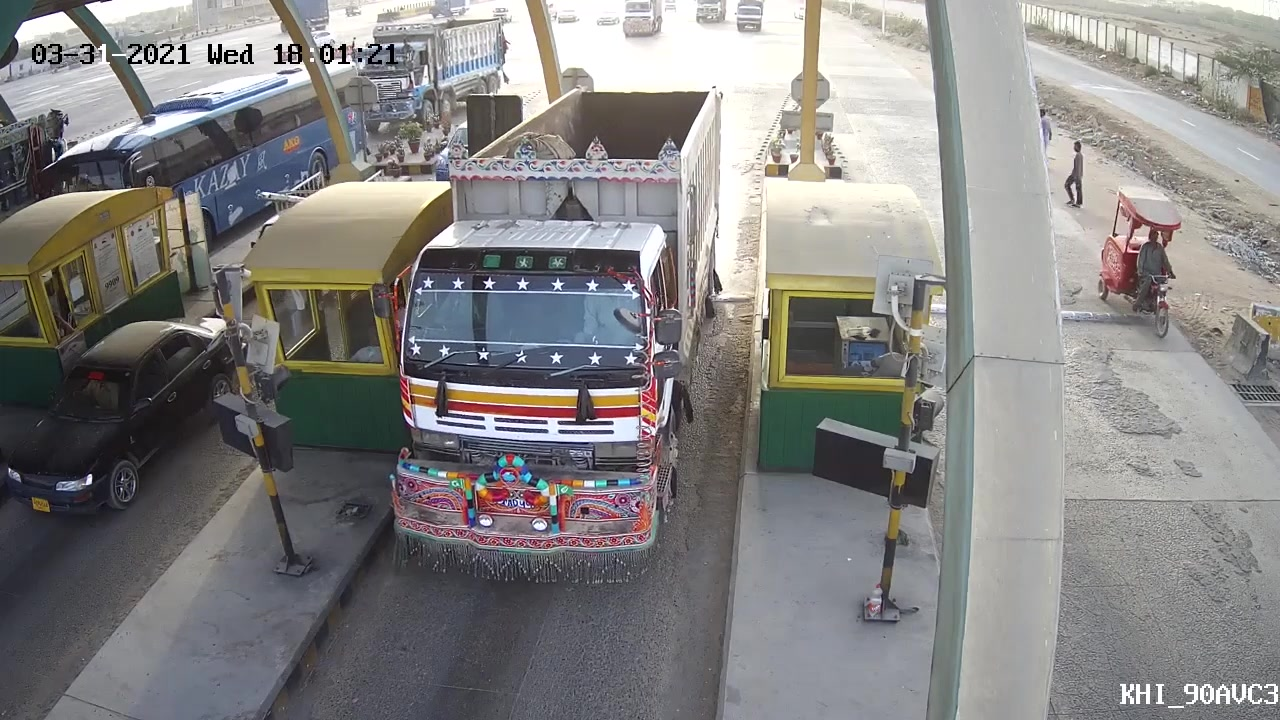F5: (371, 86, 730, 590)
